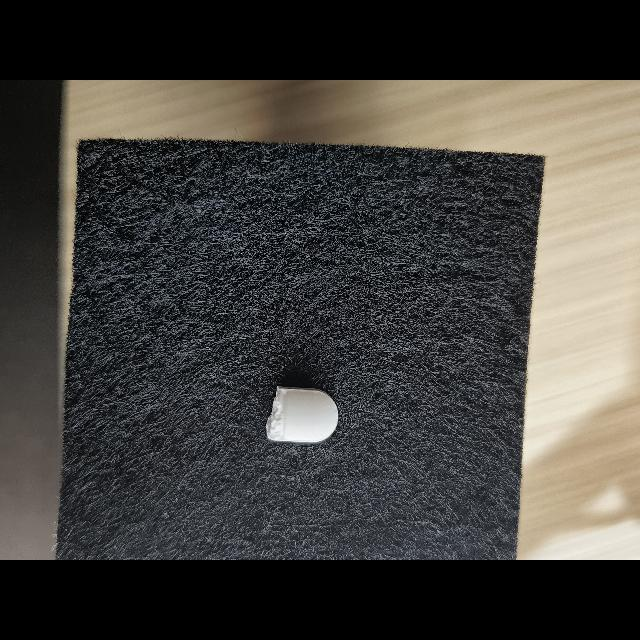Chipped Pill: (266, 386, 339, 443)
